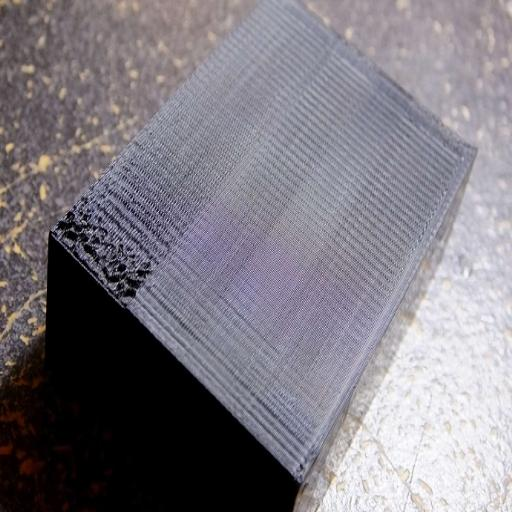cracks: (42, 187, 175, 318)
